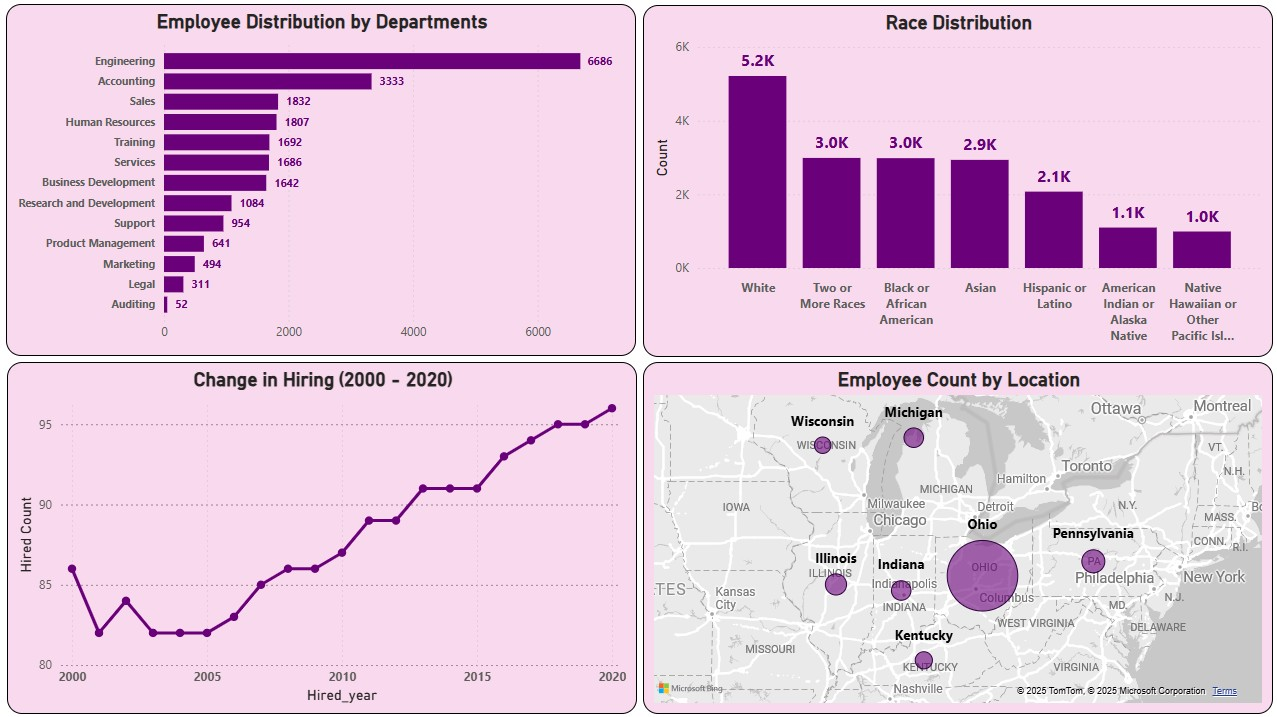

Layout of this report page (visuals, bound fields, positions):
{"tool":"powerbi","page":{"name":"Page 2","canvas":[1280,720],"ordinal":1},"visuals":[{"type":"map","title":"Employee Count by Location","fields":{"Category":["6   State distribution.location_state"],"Size":["Sum(6   State distribution.Count)"]},"box":[643.6,363.2,630,351.4],"z":0},{"type":"lineChart","title":"Change in Hiring (2000 - 2020)","fields":{"Category":["8  Turnover Rate by Year.Hired_year"],"Y":["Sum(8  Turnover Rate by Year.Hire_change)"]},"box":[8,363,630,352],"z":1000},{"type":"columnChart","title":"Race Distribution","fields":{"Y":["Sum(3  Race Distribution.Count)"],"Category":["3  Race Distribution.race"]},"box":[644,6,630,352],"z":2000},{"type":"barChart","title":"Employee Distribution by Departments","fields":{"Category":["10  Employees Distribution by Departments.department"],"Y":["Sum(10  Employees Distribution by Departments.Count)"]},"box":[7,5,630,352],"z":3000}]}

Visuals, with their boxes in screenshot pixels (x1, y1, x2, y2), scaled from the page's 1280x720 canvas onto the 1277x717 screenshot:
"Employee Count by Location" map: BBox(642, 362, 1271, 712)
"Change in Hiring (2000 - 2020)" lineChart: BBox(8, 361, 637, 712)
"Race Distribution" columnChart: BBox(642, 6, 1271, 357)
"Employee Distribution by Departments" barChart: BBox(7, 5, 636, 356)
